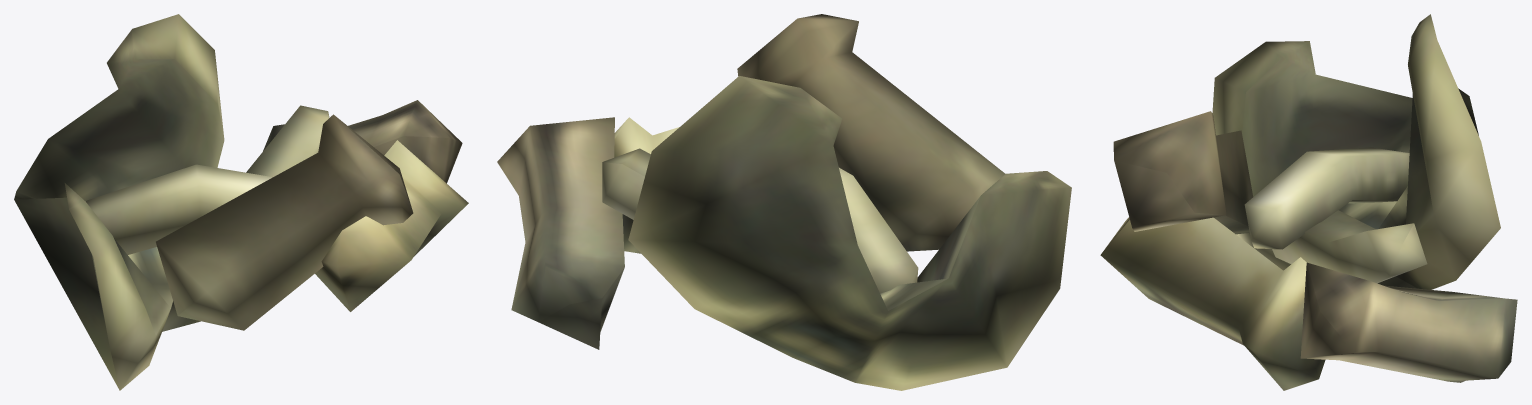
File: kulou_02.FBX
3 views of the same model, side by side, from view 1: azimuth 30°, elevation 25°; view 2: azimuth 150°, elevation 25°; view 3: azimuth 270°, elevation 25° (orthographic). The views are drawn at different scales.
Visible parts, largest first — view 1: lulou_03; view 2: lulou_03; view 3: lulou_03.
Part boxes in pixels (x1,y1,x2,y2): lulou_03: [14, 14, 468, 390]; lulou_03: [497, 14, 1071, 390]; lulou_03: [1100, 14, 1517, 390].
Bounding box in the file's own units: 10.32 × 6.62 × 7.76.
